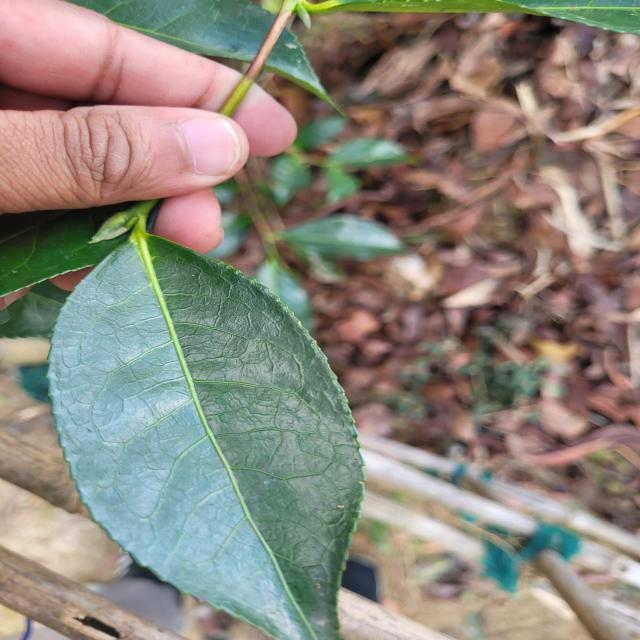Category D 7+ days, Not for Tea: (34, 195, 385, 640)
